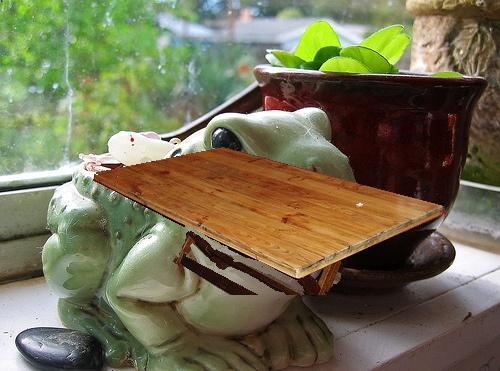tampered: (94, 148, 446, 295)
